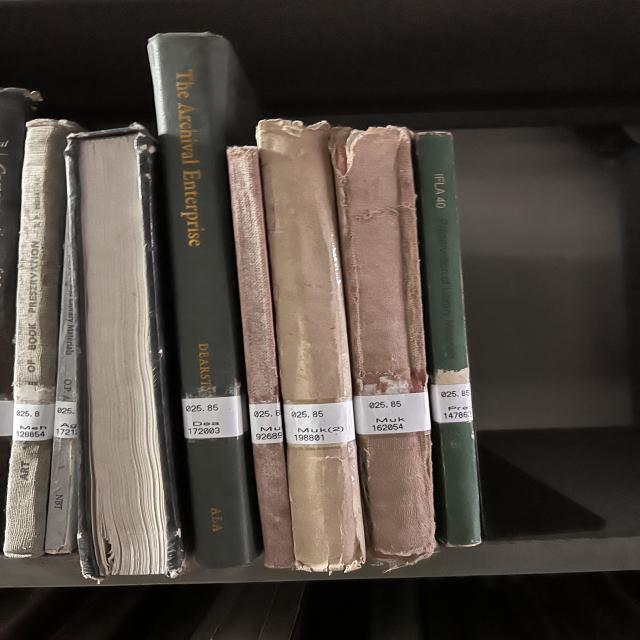Book: (148, 32, 257, 568), (257, 119, 365, 572), (330, 126, 435, 570), (3, 119, 80, 558), (415, 131, 482, 546), (45, 240, 80, 554)
Label: (353, 391, 430, 435), (283, 400, 355, 445), (182, 395, 245, 439), (430, 382, 473, 422), (12, 402, 55, 441), (248, 402, 283, 444), (53, 401, 78, 439)
